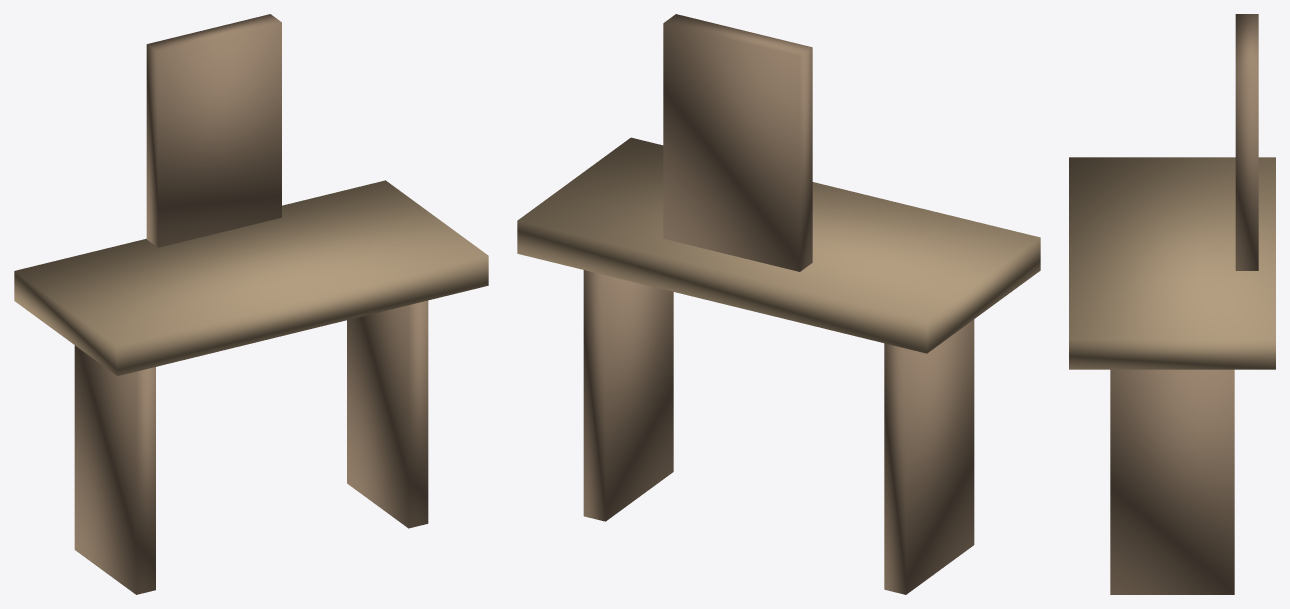
Rendered from altar_table__tall.glb.
3 views of the same model, side by side, from view 1: azimuth 30°, elevation 25°; view 2: azimuth 150°, elevation 25°; view 3: azimuth 270°, elevation 25° (orthographic). The views are drawn at different scales.
Visible parts, largest first — view 1: world; view 2: world; view 3: world.
Boxes of the visible parts, <box> form: world: <box>14,14,488,594</box>; world: <box>517,14,1040,594</box>; world: <box>1069,14,1275,594</box>.
Bounding box in the file's own units: 1.5 × 1.84 × 0.72.
